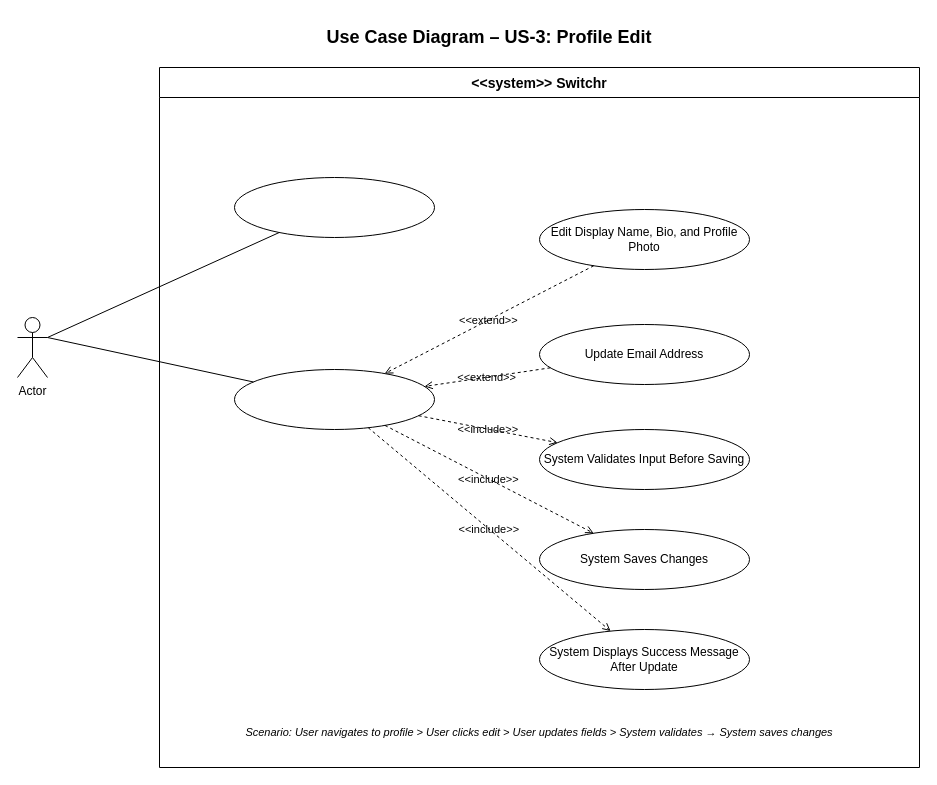
Some shapes in this 937 by 785 pixel diagram are drawn without their labels. Each missing label, with the box of its shape:
Edit Profile Information: (234, 368, 434, 430)
Navigate to 'My Profile' Section: (234, 176, 434, 238)
